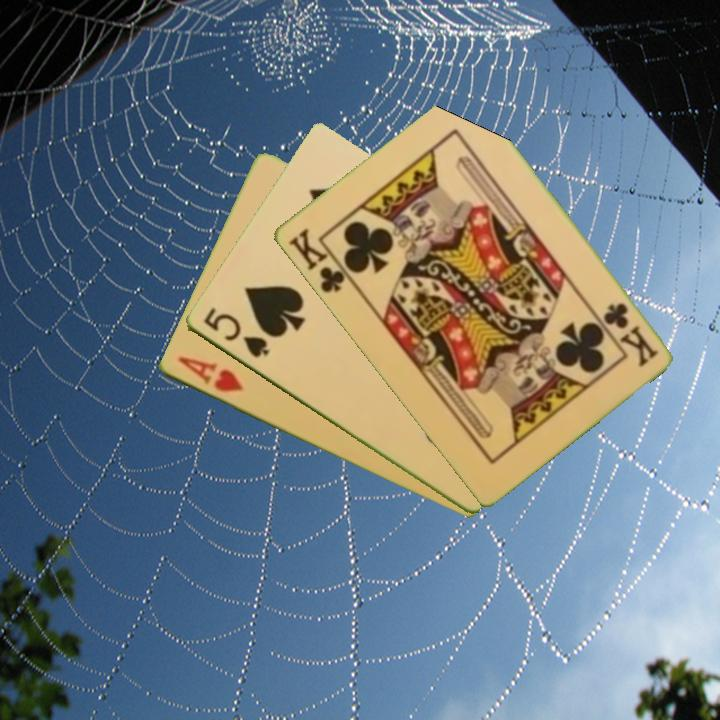5s: (199, 304, 272, 361)
Ah: (173, 353, 246, 396)
Kc: (284, 224, 355, 296), (599, 298, 661, 370)
